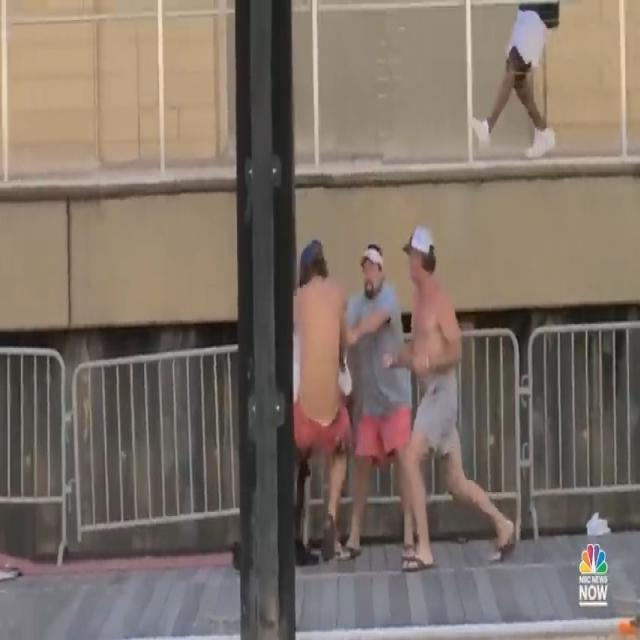fight: (296, 230, 519, 572)
